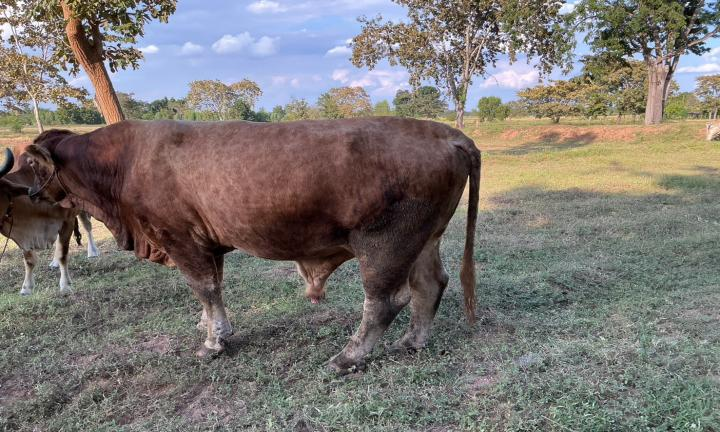Charolais: (26, 117, 479, 372)
